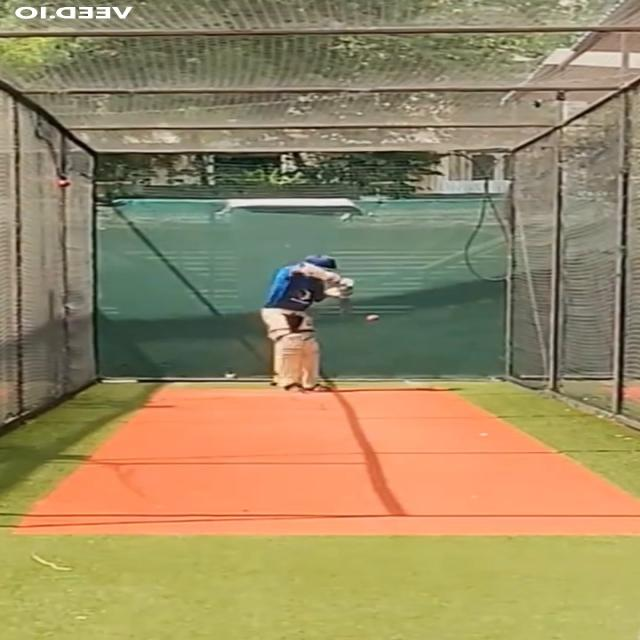ball: (366, 313, 381, 324)
